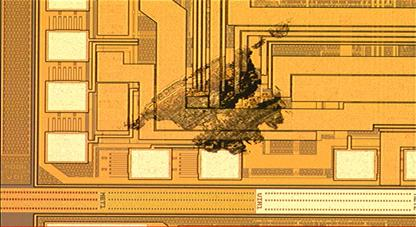BLOCK ETCH: (122, 19, 297, 157)
